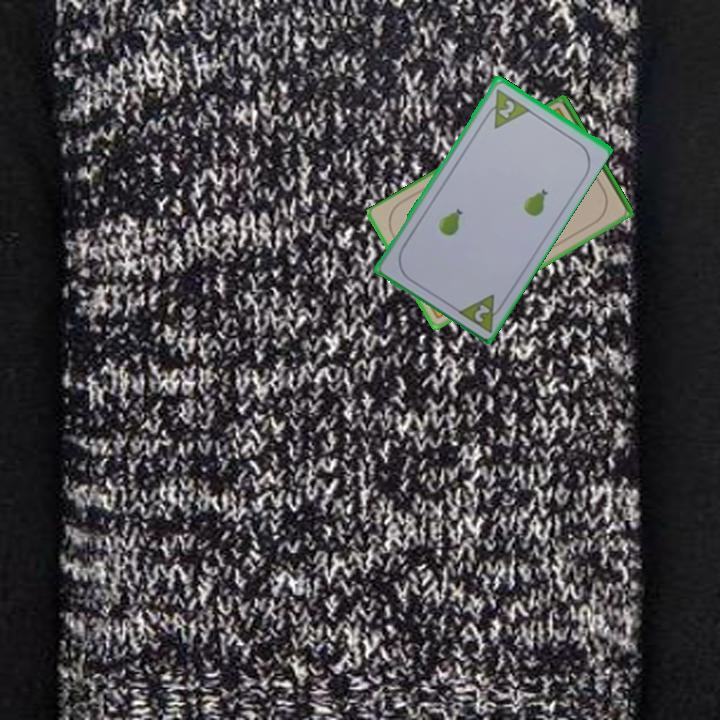2p: (453, 289, 509, 335), (494, 96, 518, 121)
